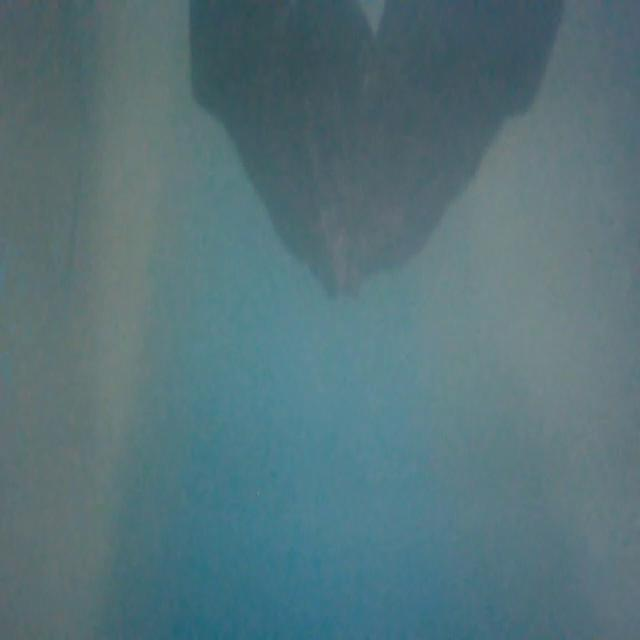plastic bags: (192, 0, 572, 311)
